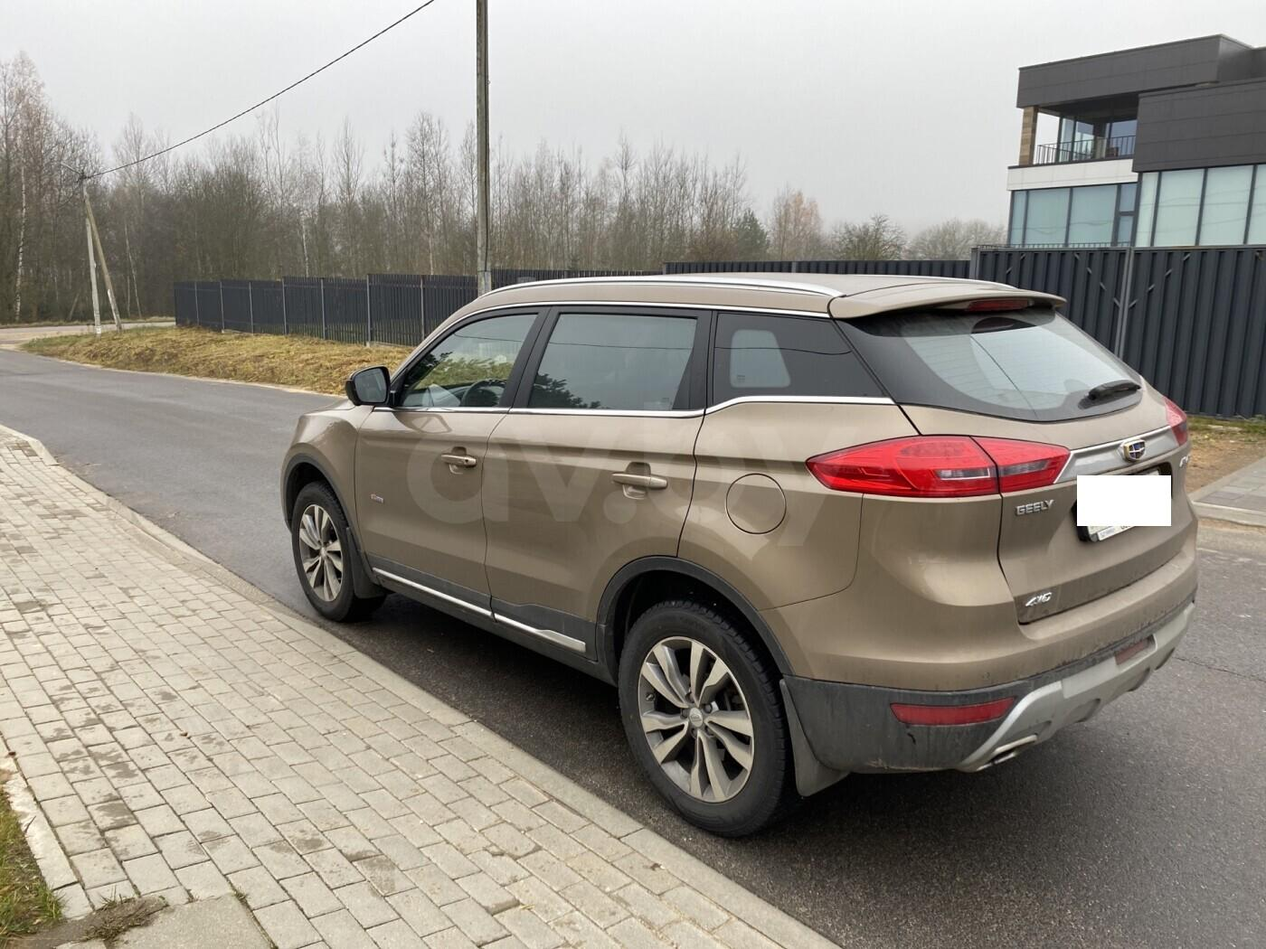Atlas_2016-2023: (286, 269, 1205, 842)
